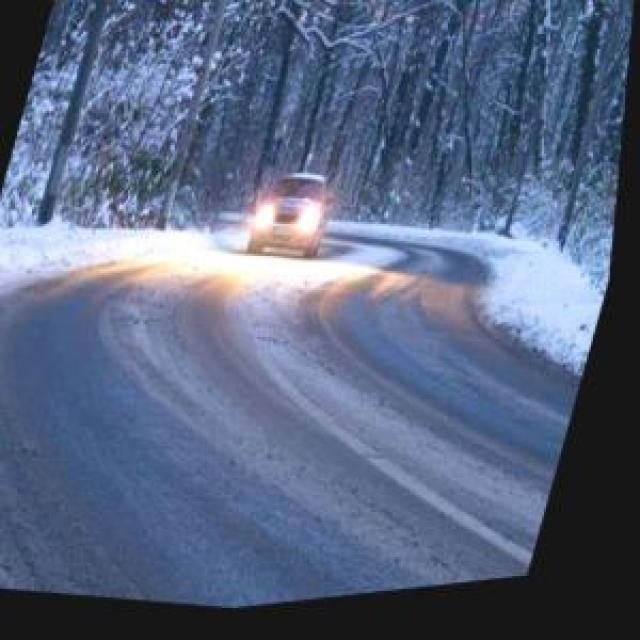ice-road: (0, 235, 579, 606)
